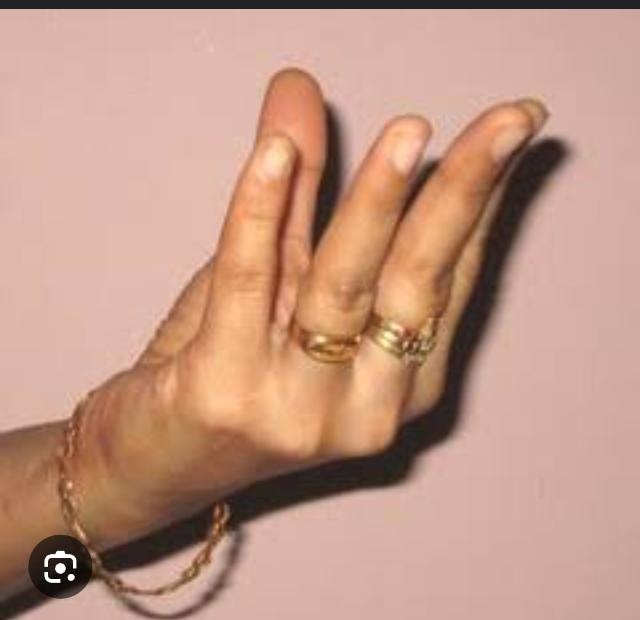padamkosh: (62, 70, 547, 549)
